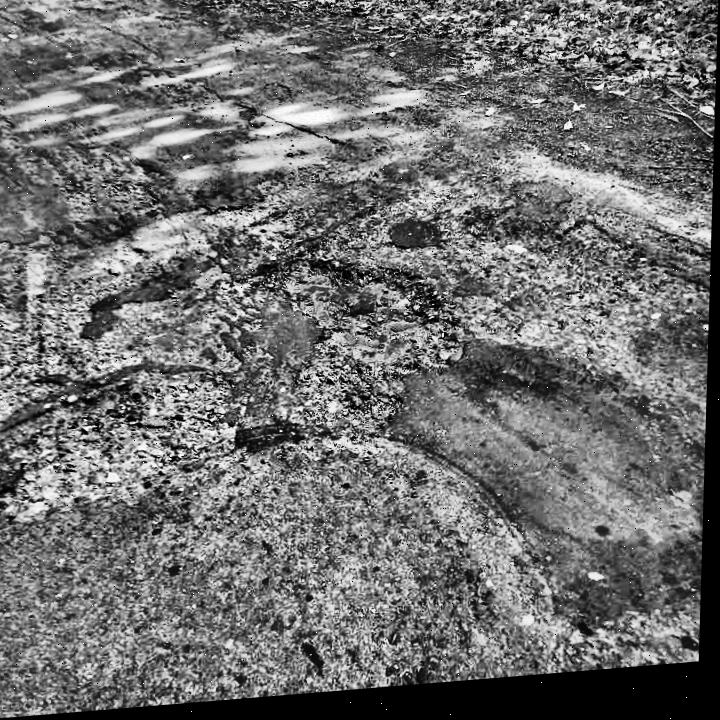pothole: (250, 247, 461, 394)
